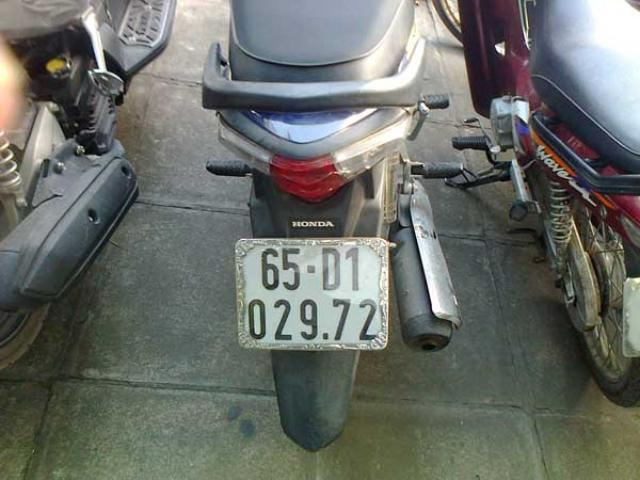plate: (234, 235, 396, 352)
